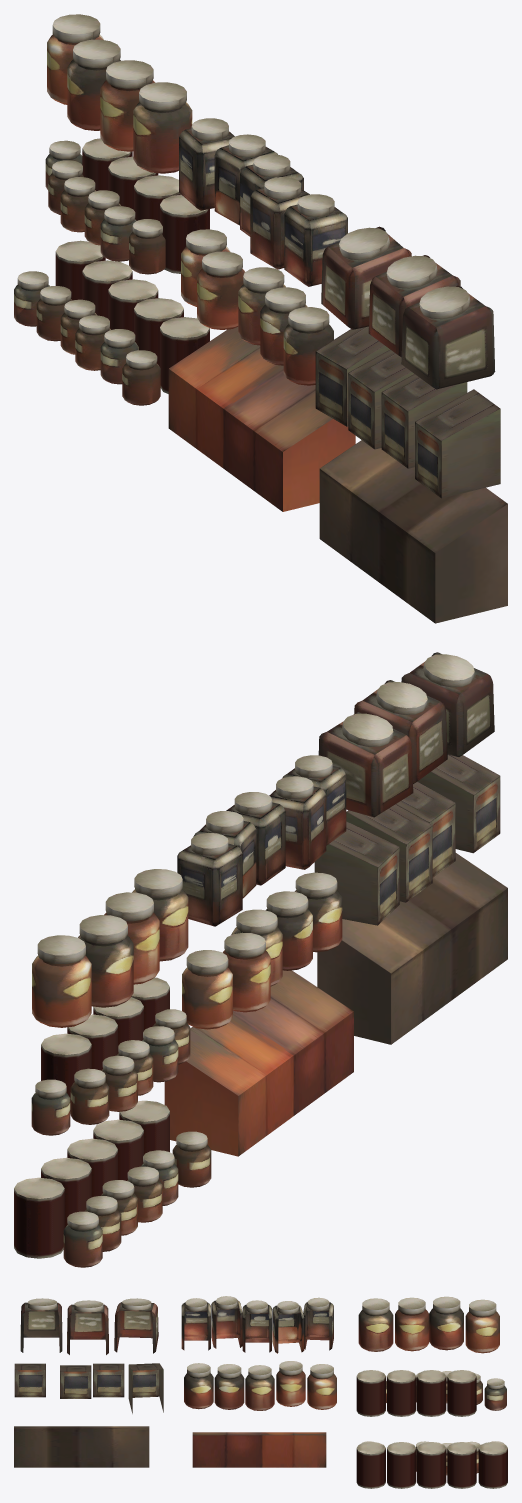
File: jar.obj
3 views of the same model, one above another, from view 1: azimuth 30°, elevation 25°; view 2: azimuth 150°, elevation 25°; view 3: azimuth 270°, elevation 25° (orthographic). The views are drawn at different scales.
Visible parts, largest first — view 1: tanaAin_meshId0; view 2: tanaAin_meshId0; view 3: tanaAin_meshId0.
Part boxes in pixels (x1,y1,x2,y2): tanaAin_meshId0: [14, 14, 507, 623]; tanaAin_meshId0: [14, 652, 507, 1267]; tanaAin_meshId0: [14, 1296, 507, 1488].
Size of the model in its own units: 1.34 by 4.61 by 11.66.
Materials: 2 (2 with a texture image).
